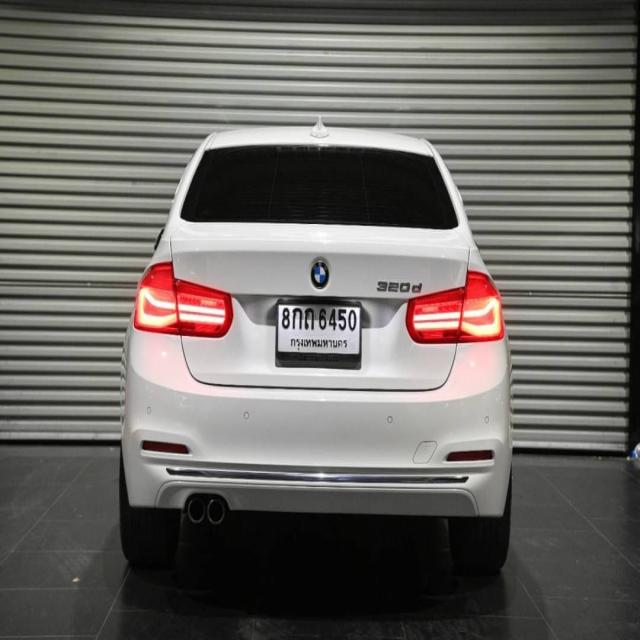license_plate: (276, 298, 362, 362)
